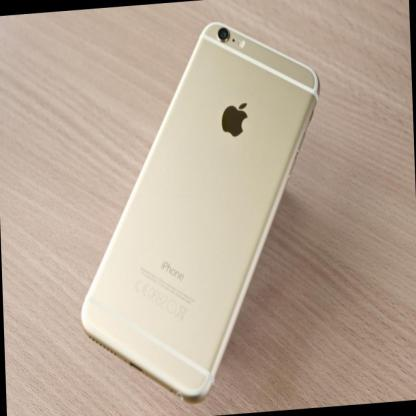phone good: (78, 20, 367, 407)
